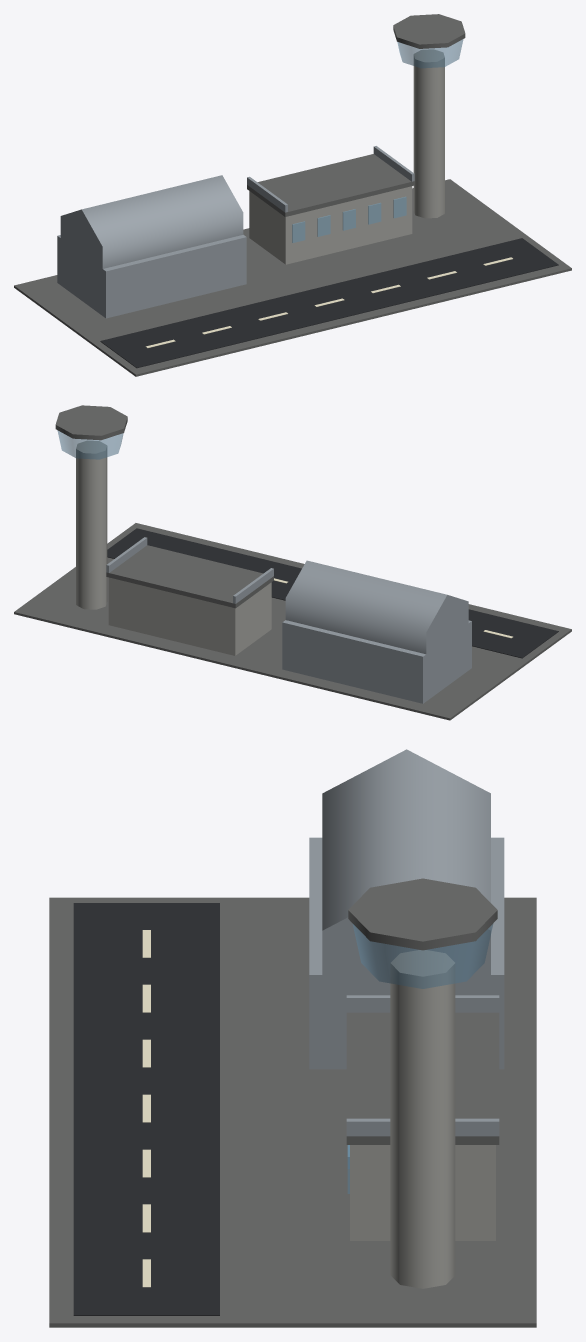
Rendered from bld_special_airport_a06_lod1.glb.
The picture shows the model from 3 angles, top to bottom: view 1: azimuth 30°, elevation 25°; view 2: azimuth 150°, elevation 25°; view 3: azimuth 270°, elevation 25°; orthographic projection. The views are drawn at different scales.
Visible parts, largest first — view 1: body; view 2: body; view 3: body.
Part boxes in pixels (x1,y1,x2,y2): body: (14, 14, 571, 376); body: (14, 405, 571, 720); body: (49, 749, 536, 1327).
Size of the model in its own units: 31 by 12.55 by 15.
